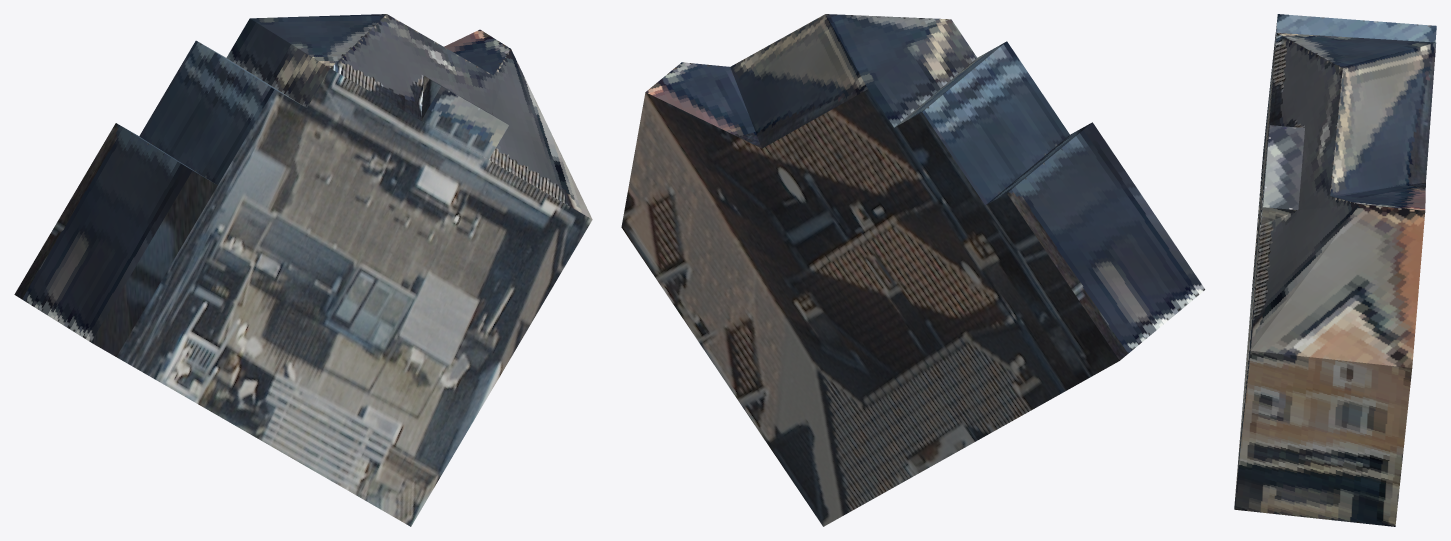
3 views of the same model, side by side, from view 1: azimuth 30°, elevation 25°; view 2: azimuth 150°, elevation 25°; view 3: azimuth 270°, elevation 25° (orthographic). The views are drawn at different scales.
Parts seen in each view (by area): view 1: BAG_0599100000671718 (×5); view 2: BAG_0599100000671718 (×5); view 3: BAG_0599100000671718 (×5).
Part boxes in pixels (<box>): BAG_0599100000671718 (×5): <box>14,14,592,526</box>; BAG_0599100000671718 (×5): <box>621,14,1205,526</box>; BAG_0599100000671718 (×5): <box>1234,14,1436,526</box>.
Size of the model in its own units: 18.32 by 16.76 by 6.55.
6 materials, 6 textured.
